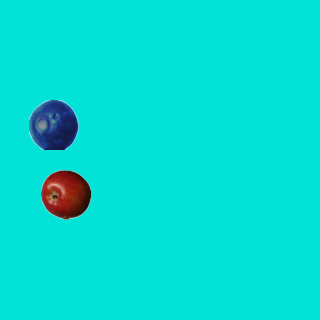Apple Braeburn: (40, 169, 90, 219)
Huckleberry: (28, 99, 78, 149)
